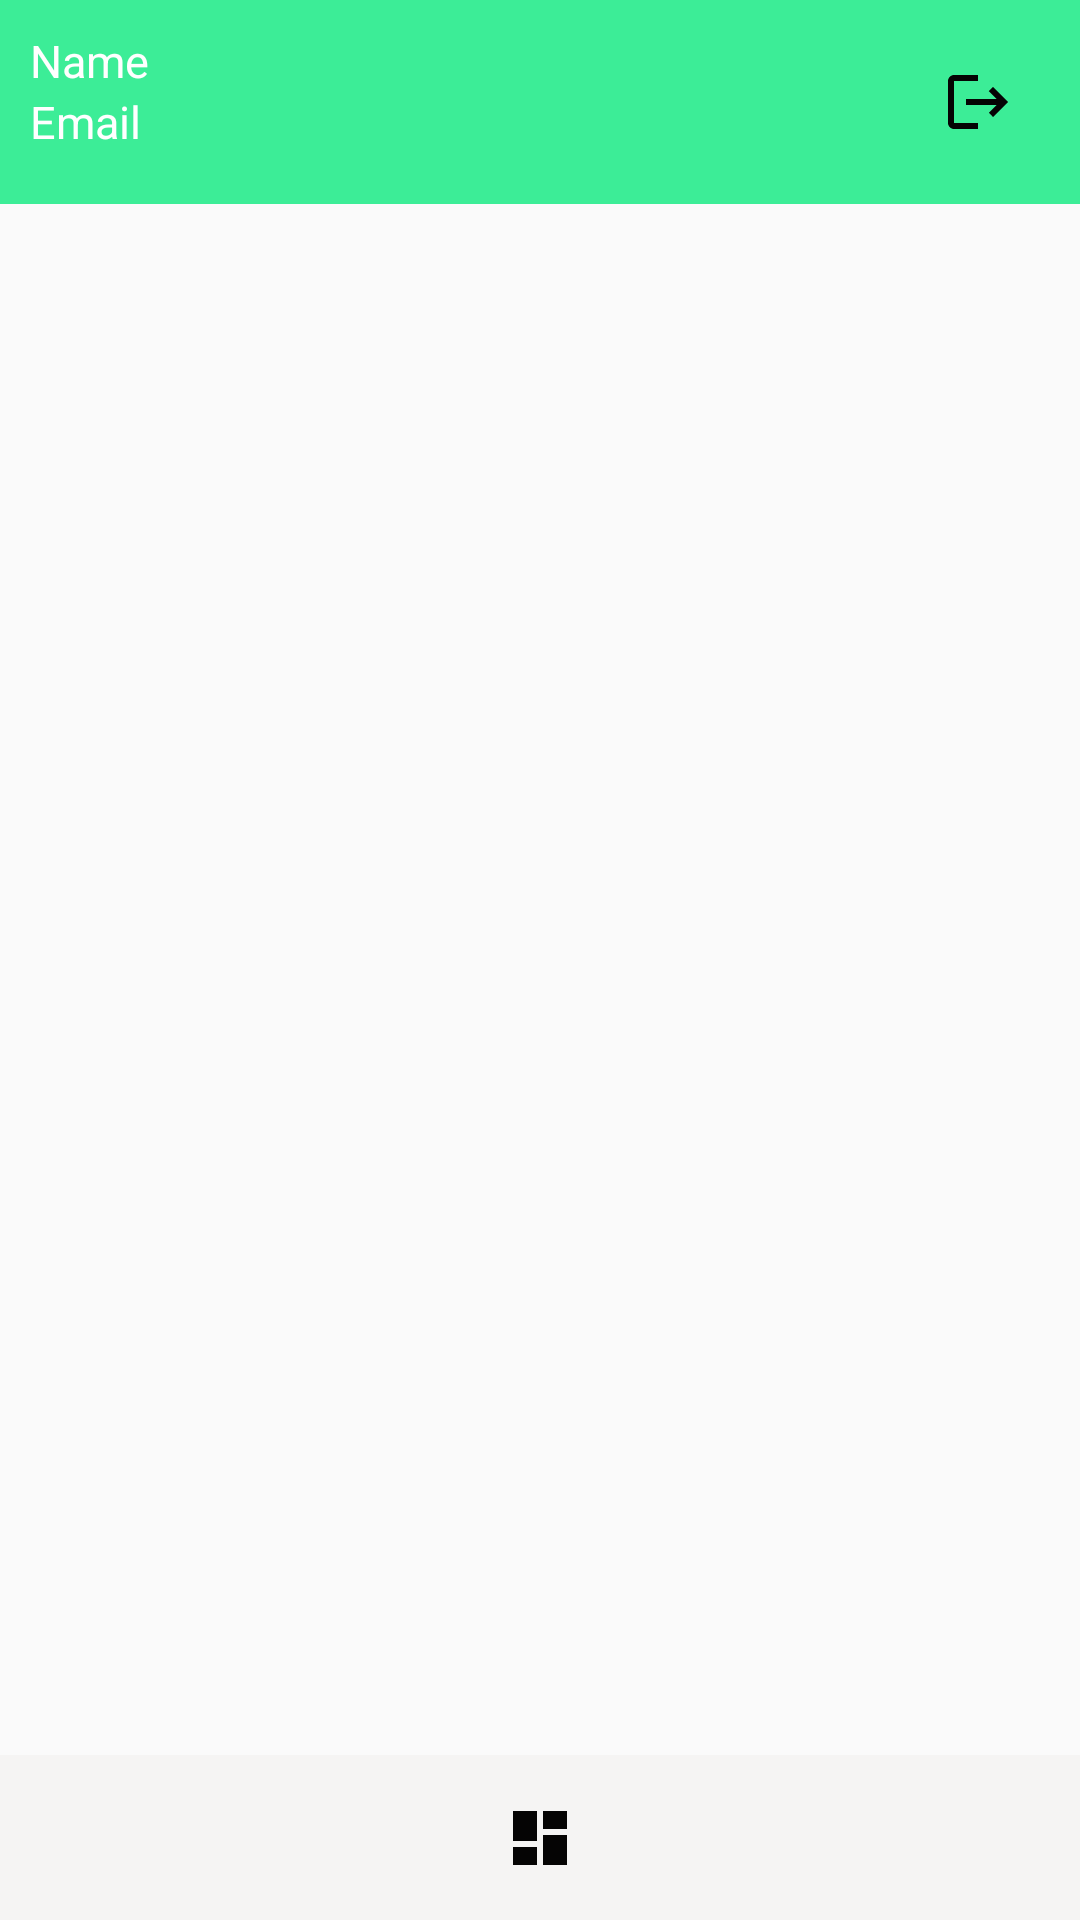

Icons on this 1080px x 1920px Android screen, each with the point to tap as (x,y):
dashboard: (540,1838)
